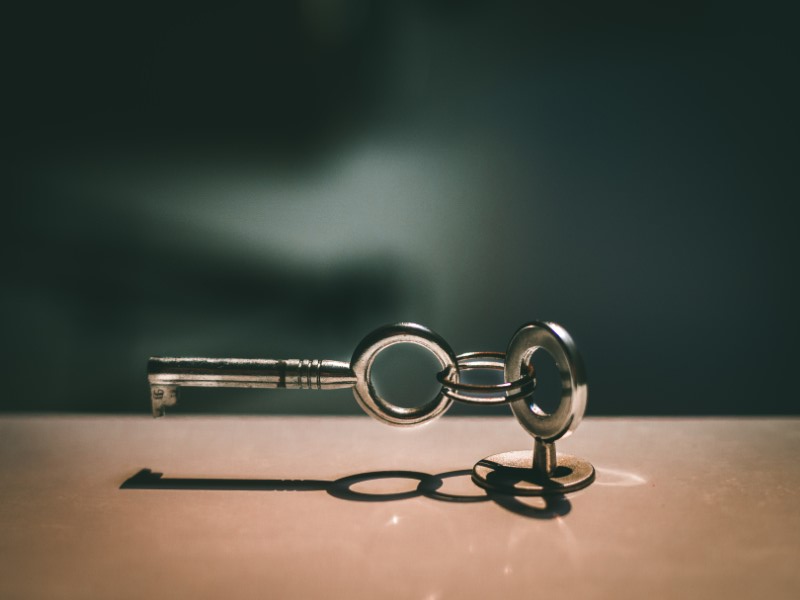key: (145, 316, 460, 440)
